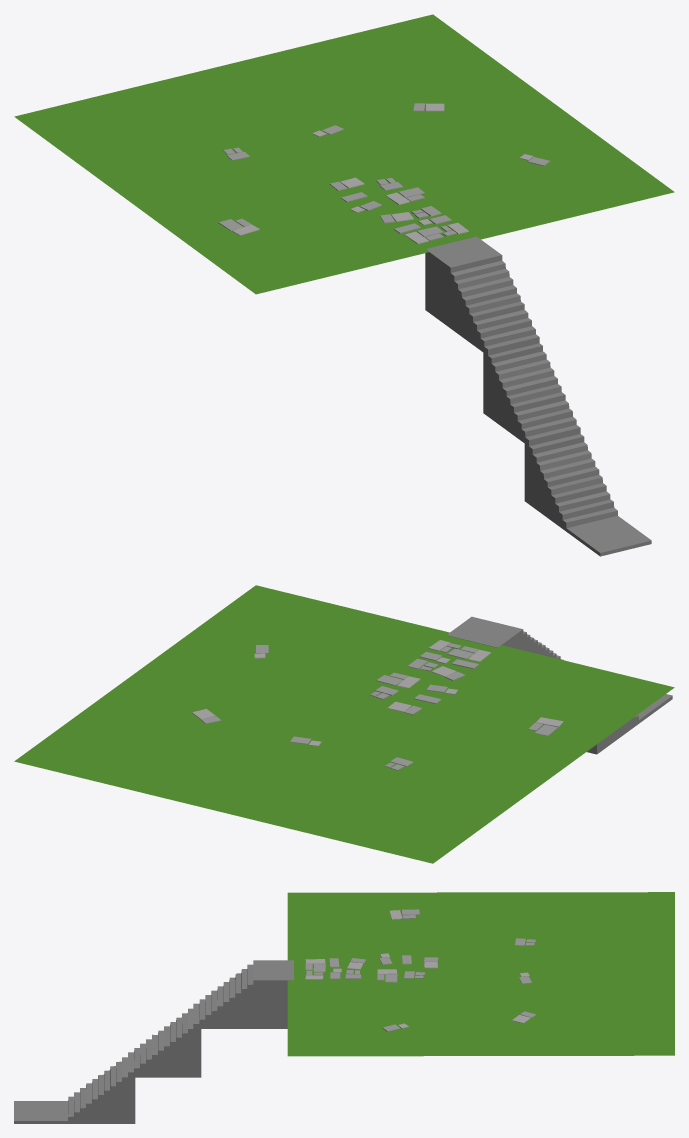
Rendered from Spawn_floor.fbx.
The picture shows the model from 3 angles, top to bottom: view 1: azimuth 30°, elevation 25°; view 2: azimuth 150°, elevation 25°; view 3: azimuth 270°, elevation 25°; orthographic projection. The views are drawn at different scales.
Visible parts, largest first — view 1: Spawn floor; view 2: Spawn floor; view 3: Spawn floor.
Boxes of the visible parts, x1=… form: Spawn floor: x1=14, y1=14, x2=674, y2=556; Spawn floor: x1=14, y1=585, x2=674, y2=863; Spawn floor: x1=14, y1=892, x2=674, y2=1123.
Bounding box in the file's own units: 6515 × 2677 × 11121.
